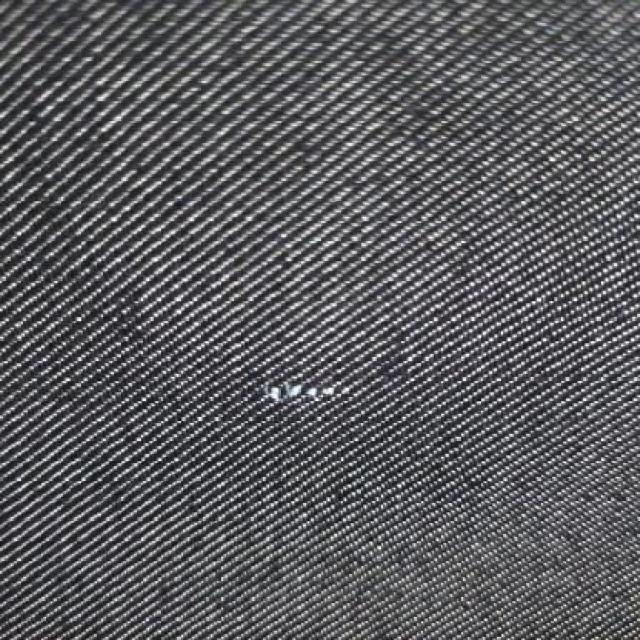pulled_or_thick_thread: (259, 372, 370, 407)
